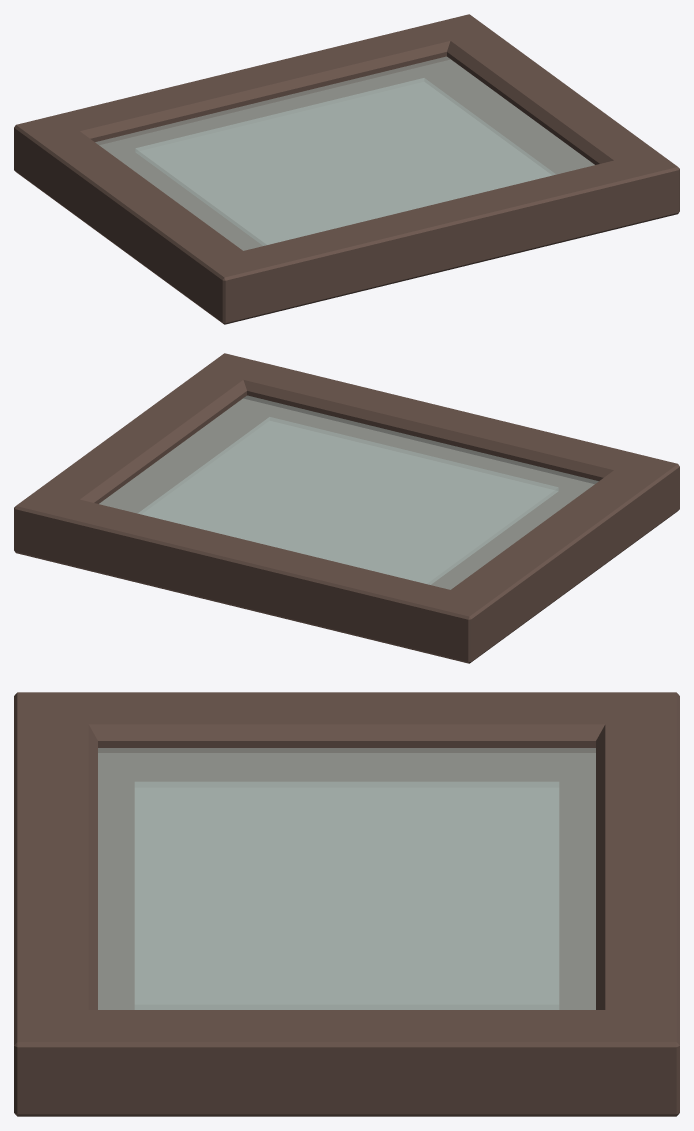
Rendered from demo_contactprintingeasel.glb.
3 views of the same model, one above another, from view 1: azimuth 30°, elevation 25°; view 2: azimuth 150°, elevation 25°; view 3: azimuth 270°, elevation 25° (orthographic). The views are drawn at different scales.
Parts seen in each view (by area): view 1: contactprintingeasel.003, contacteasel_glass.001, contacteasel_back.001, glassplate.007; view 2: contactprintingeasel.003, contacteasel_glass.001, contacteasel_back.001, glassplate.007; view 3: contactprintingeasel.003, contacteasel_glass.001, contacteasel_back.001, glassplate.007.
Part boxes in pixels (x1,y1,x2,y2): contactprintingeasel.003: [14, 14, 679, 324]; contacteasel_glass.001: [95, 57, 594, 250]; contacteasel_back.001: [99, 59, 594, 250]; glassplate.007: [136, 78, 555, 245]; contactprintingeasel.003: [14, 353, 679, 663]; contacteasel_glass.001: [99, 396, 598, 589]; contacteasel_back.001: [99, 398, 594, 589]; glassplate.007: [138, 417, 557, 584]; contactprintingeasel.003: [14, 692, 679, 1116]; contacteasel_glass.001: [98, 748, 595, 1009]; contacteasel_back.001: [98, 753, 595, 1009]; glassplate.007: [135, 782, 558, 1009].
Bounding box in the file's own units: 11.43 × 1.13 × 9.13.
